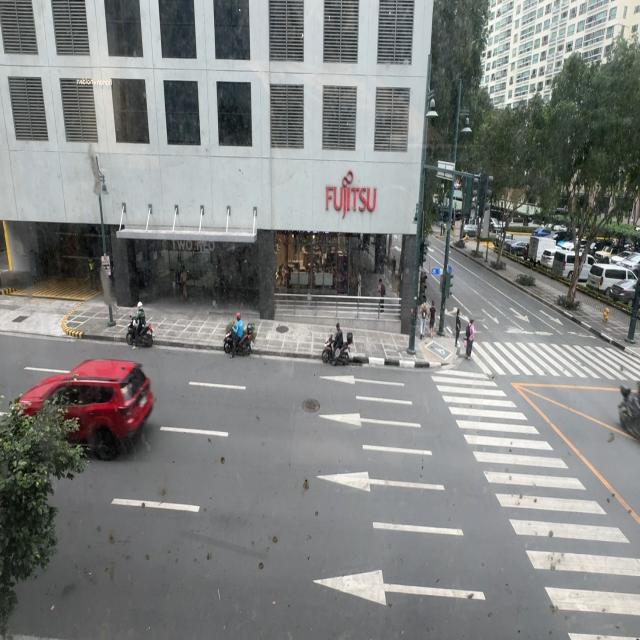pedestrain: (377, 278, 385, 313)
waiting: (427, 296, 438, 346), (465, 318, 474, 360), (419, 300, 428, 340), (455, 309, 461, 348)
